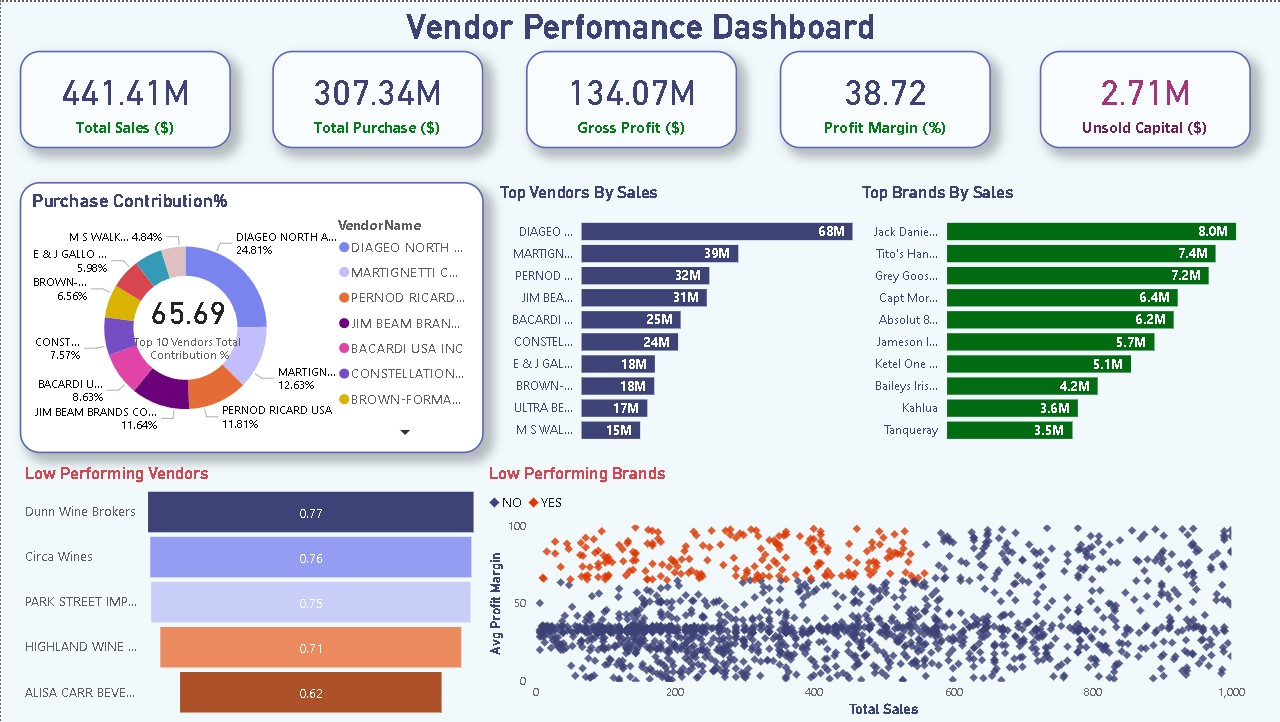

The dashboard page shown, as its layout file describes it:
{"tool":"powerbi","page":{"name":"Page 1","canvas":[1280,720],"ordinal":0},"visuals":[{"type":"card","fields":{"Values":["inventory_db vendor_sales_summary.TotalSalesDollars"]},"box":[18.8,48.8,211.2,97.5],"z":0},{"type":"donutChart","title":"Purchase Contribution%","fields":{"Category":["PurchaseContribution.VendorName"],"Y":["PurchaseContribution.PurchaseContribution%"]},"box":[18.8,180,463.8,271.2],"z":1000},{"type":"card","fields":{"Values":["inventory_db vendor_sales_summary.TotalPurchaseDollars"]},"box":[271.2,48.8,211.2,97.5],"z":2000},{"type":"textbox","box":[376.7,0,526.7,48.3],"z":3000},{"type":"card","fields":{"Values":["inventory_db vendor_sales_summary.GrossProfit"]},"box":[525,48.8,211.2,97.5],"z":4000},{"type":"card","fields":{"Values":["inventory_db vendor_sales_summary.ProfitMargin"]},"box":[778.8,48.8,211.2,97.5],"z":5000},{"type":"card","fields":{"Values":["inventory_db vendor_sales_summary.UnsoldCapital"]},"box":[1038.8,48.8,211.2,97.5],"z":6000},{"type":"barChart","title":"Top Vendors By Sales","fields":{"Category":["inventory_db vendor_sales_summary.VendorName"],"Y":["inventory_db vendor_sales_summary.TotalSalesDollars"]},"box":[493.8,180,408.8,271.2],"z":7000},{"type":"barChart","title":"Top Brands By Sales","fields":{"Category":["inventory_db vendor_sales_summary.Description"],"Y":["inventory_db vendor_sales_summary.TotalSalesDollars"]},"box":[856.2,180,423.8,271.2],"z":8000},{"type":"funnel","title":"Low Performing Vendors","fields":{"Category":["LowTurnoverVendor.VendorName"],"Y":["LowTurnoverVendor.AvgStockTurnOver"]},"box":[19,461,464,259],"z":9000},{"type":"scatterChart","title":"Low Performing Brands","fields":{"Category":["BrandPerformance.Description"],"X":["BrandPerformance.TotalSales"],"Y":["BrandPerformance.AvgProfitMargin"],"Series":["BrandPerformance.TargetBrand"]},"box":[483,461.1,767.1,259.3],"z":10000},{"type":"card","fields":{"Values":["PurchaseContribution.PurchaseContribution%"]},"box":[122.1,252.5,129,126.2],"z":10001}]}

Visuals, with their boxes in screenshot pixels (x1, y1, x2, y2), scaled from the page's 1280x720 canvas onto the 1280x722 screenshot:
card - inventory_db vendor_sales_summary.TotalSalesDollars: region(19, 49, 230, 147)
"Purchase Contribution%" donutChart: region(19, 180, 483, 452)
card - inventory_db vendor_sales_summary.TotalPurchaseDollars: region(271, 49, 482, 147)
textbox: region(377, 0, 903, 48)
card - inventory_db vendor_sales_summary.GrossProfit: region(525, 49, 736, 147)
card - inventory_db vendor_sales_summary.ProfitMargin: region(779, 49, 990, 147)
card - inventory_db vendor_sales_summary.UnsoldCapital: region(1039, 49, 1250, 147)
"Top Vendors By Sales" barChart: region(494, 180, 903, 452)
"Top Brands By Sales" barChart: region(856, 180, 1279, 452)
"Low Performing Vendors" funnel: region(19, 462, 483, 721)
"Low Performing Brands" scatterChart: region(483, 462, 1250, 721)
card - PurchaseContribution.PurchaseContribution%: region(122, 253, 251, 380)
